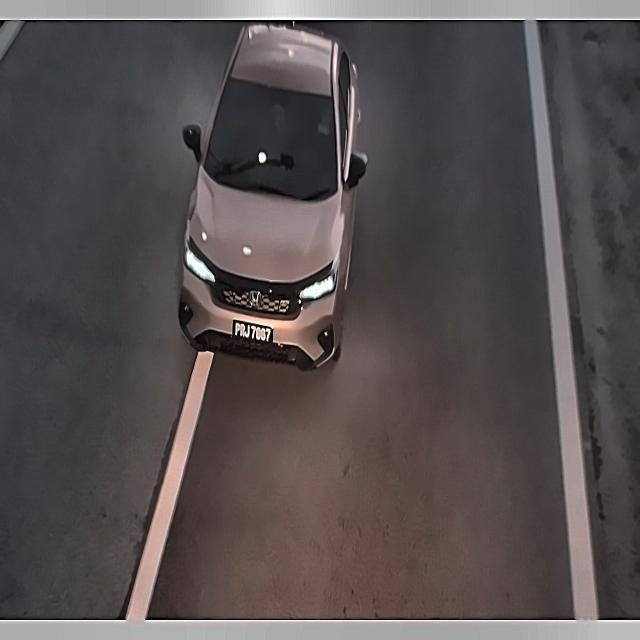car: (233, 313, 275, 353)
